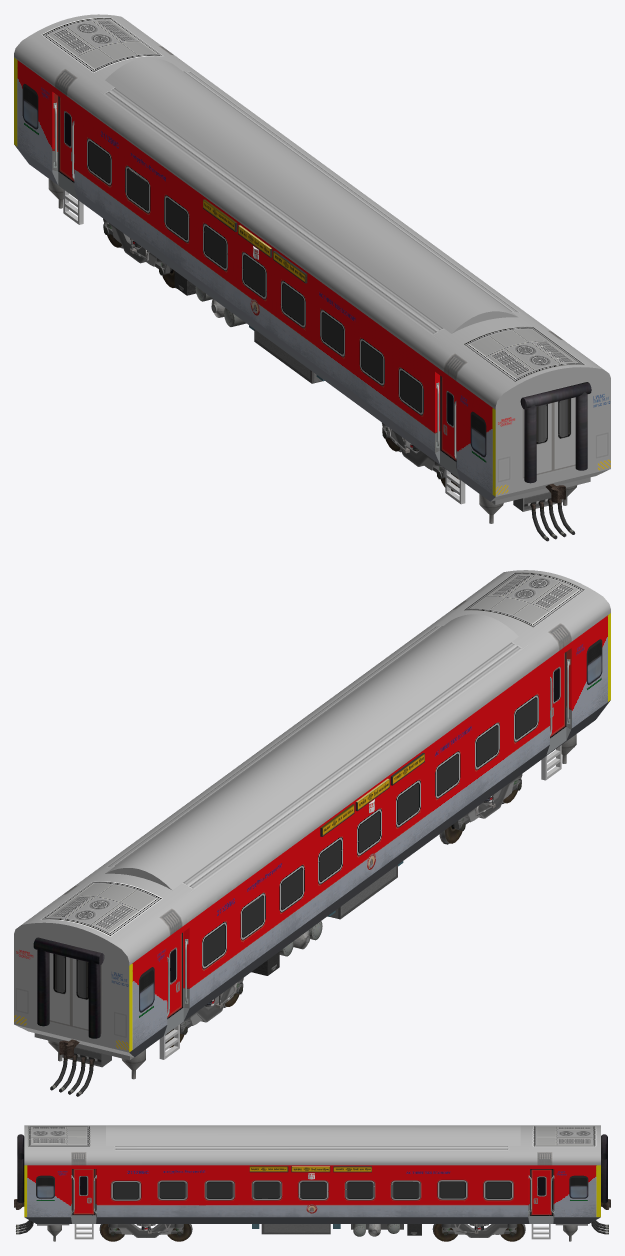
The model's file is lhb_eco.glb.
3 views of the same model, one above another, from view 1: azimuth 30°, elevation 25°; view 2: azimuth 150°, elevation 25°; view 3: azimuth 270°, elevation 25° (orthographic). The views are drawn at different scales.
Visible parts, largest first — view 1: coach; view 2: coach; view 3: coach.
Boxes of the visible parts, x1=… form: coach: x1=14, y1=14, x2=610, y2=541; coach: x1=14, y1=570, x2=610, y2=1096; coach: x1=14, y1=1125, x2=610, y2=1241.
Size of the model in its own units: 3.12 by 4.39 by 22.5.
10 materials, 9 textured.
